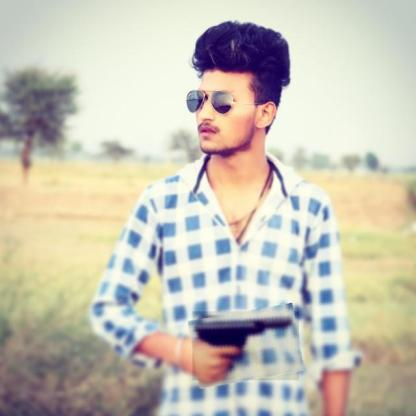handgun: (190, 307, 302, 385)
